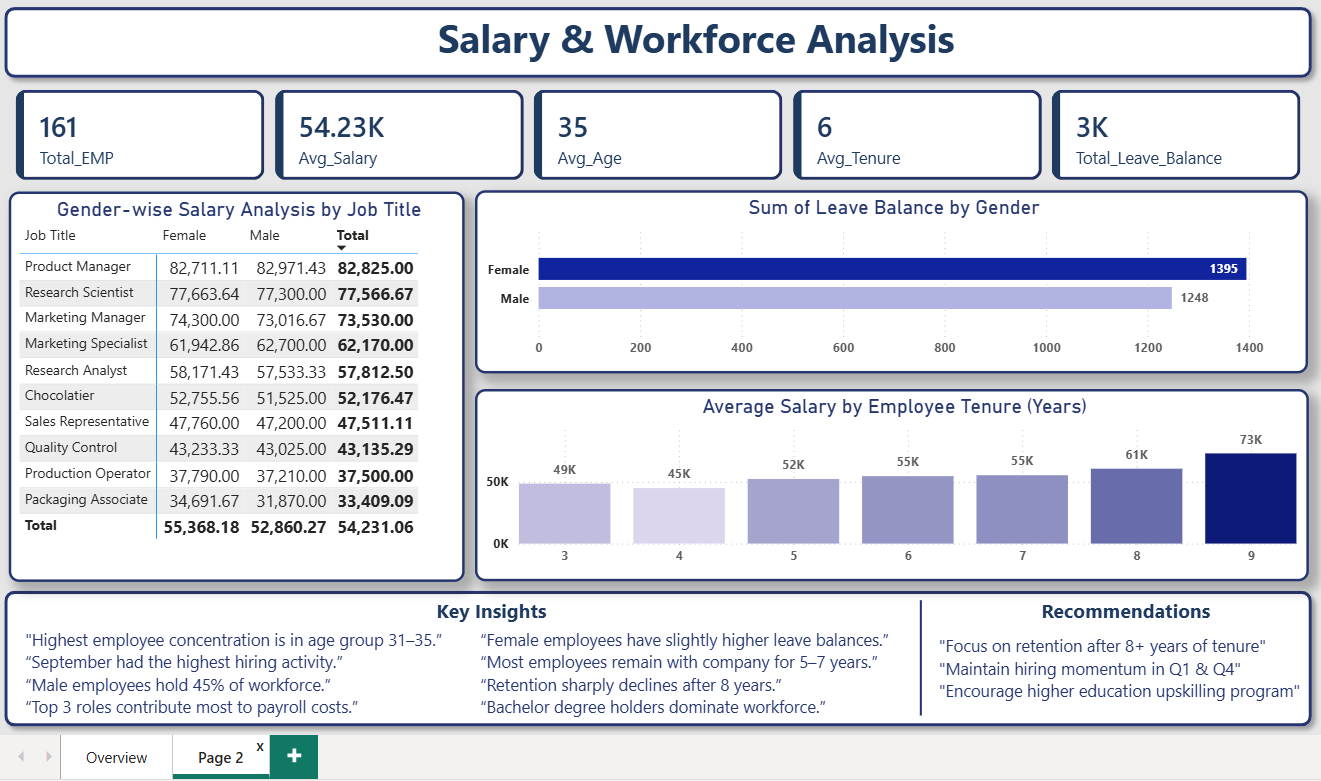

What the dashboard file says about the page in this screenshot:
{"tool":"powerbi","page":{"name":"Page 2","canvas":[1280,720],"ordinal":1},"visuals":[{"type":"shape","box":[0,571.8,1280,148.9],"z":0},{"type":"shape","box":[0,8.3,1280,86.3],"z":1000},{"type":"cardVisual","fields":{"Data":["data.TotalEMP","data.AvgSalary","data.Avg_Age","data.Avg_Tenure","data.Total_Leave_Balance"]},"box":[0,77.2,1280,127.9],"z":2000},{"type":"pivotTable","title":"Gender-wise Salary Analysis by Job Title","fields":{"Rows":["data.Job Title"],"Columns":["data.Gender"],"Values":["data.AvgSalary"]},"box":[13.3,195.4,440.4,376.4],"z":3000},{"type":"clusteredBarChart","fields":{"Category":["data.Gender"],"Y":["Sum(data.Leave Balance)"]},"box":[463.3,194.8,804.2,176.7],"z":4000},{"type":"columnChart","title":"Average Salary by Employee Tenure (Years)","fields":{"Y":["data.AvgSalary"],"Category":["data.Tenure"]},"box":[463.3,386.1,804.7,185.8],"z":5000},{"type":"textbox","box":[422.3,16.9,547.7,141.2],"z":6000},{"type":"textbox","box":[23.7,612.2,460.5,98.8],"z":7000},{"type":"textbox","box":[463.3,612.2,411.8,98.8],"z":8000},{"type":"textbox","box":[421.6,583,208.7,40.3],"z":9000},{"type":"shape","box":[783.3,589.9,221.2,111.3],"z":10000},{"type":"textbox","box":[1004.5,583,208.7,34.8],"z":11000},{"type":"textbox","box":[905.7,617.7,361.7,93.2],"z":12000}]}

Visuals, with their boxes in screenshot pixels (x1, y1, x2, y2):
shape: 3 575 1306 727
shape: 3 2 1306 89
cardVisual - data.TotalEMP x data.AvgSalary: 3 72 1306 202
"Gender-wise Salary Analysis by Job Title" pivotTable: 17 192 465 575
clusteredBarChart - data.Gender x Sum(data.Leave Balance): 475 191 1293 371
"Average Salary by Employee Tenure (Years)" columnChart: 475 386 1294 575
textbox: 433 10 991 154
textbox: 28 616 496 717
textbox: 475 616 894 717
textbox: 433 586 645 627
shape: 801 593 1026 707
textbox: 1026 586 1238 622
textbox: 925 622 1293 717
